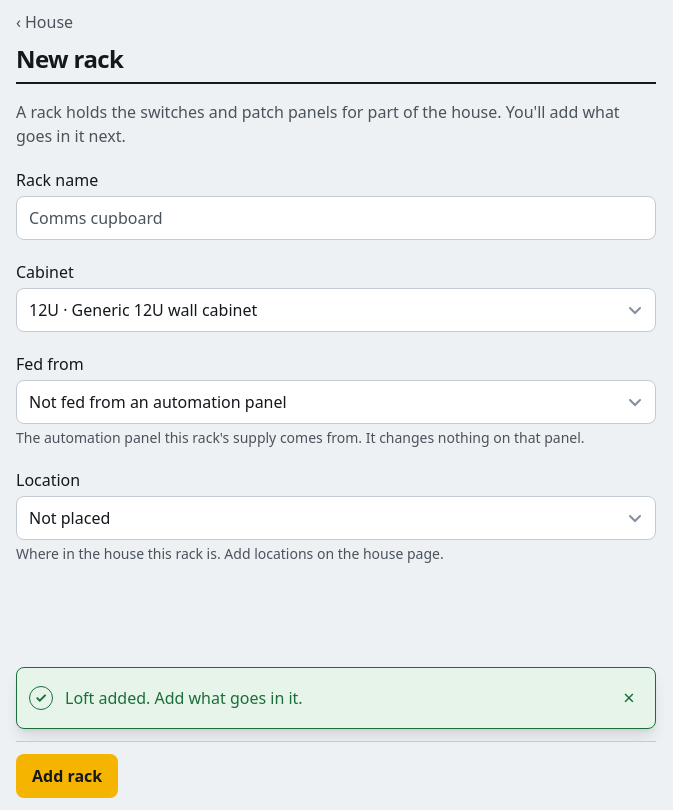
Test: NewRackPage › shows the server's field errors where they belong and keeps what was typed
Click the button "Add rack": (67, 776) left=16, top=754, right=118, bottom=798
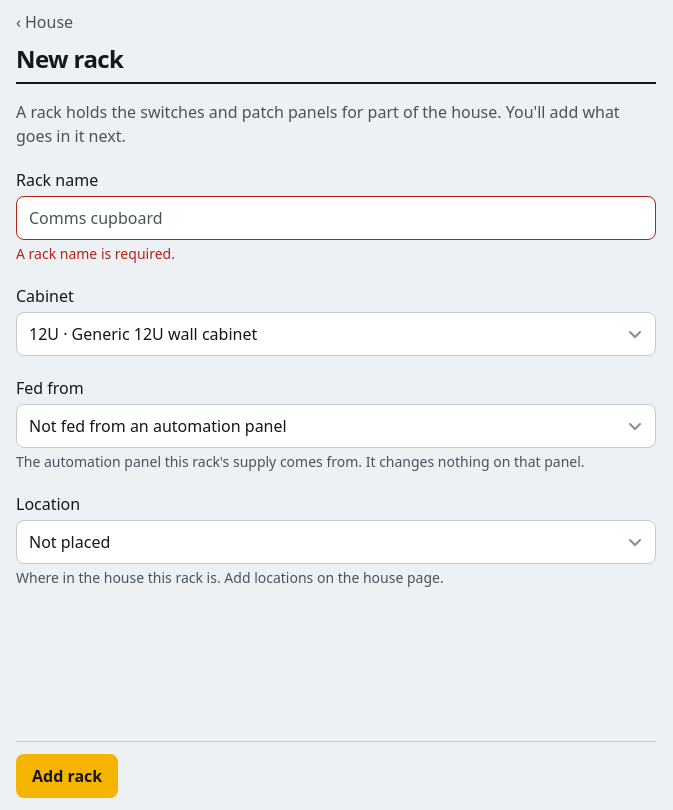
Expected: the dropdown labelled "Cabinet" shows "12U · Generic 12U wall cabinet", left=16, top=312, right=656, bottom=356
Result: the list item "A rack name is required." is shown at left=16, top=244, right=175, bottom=263
